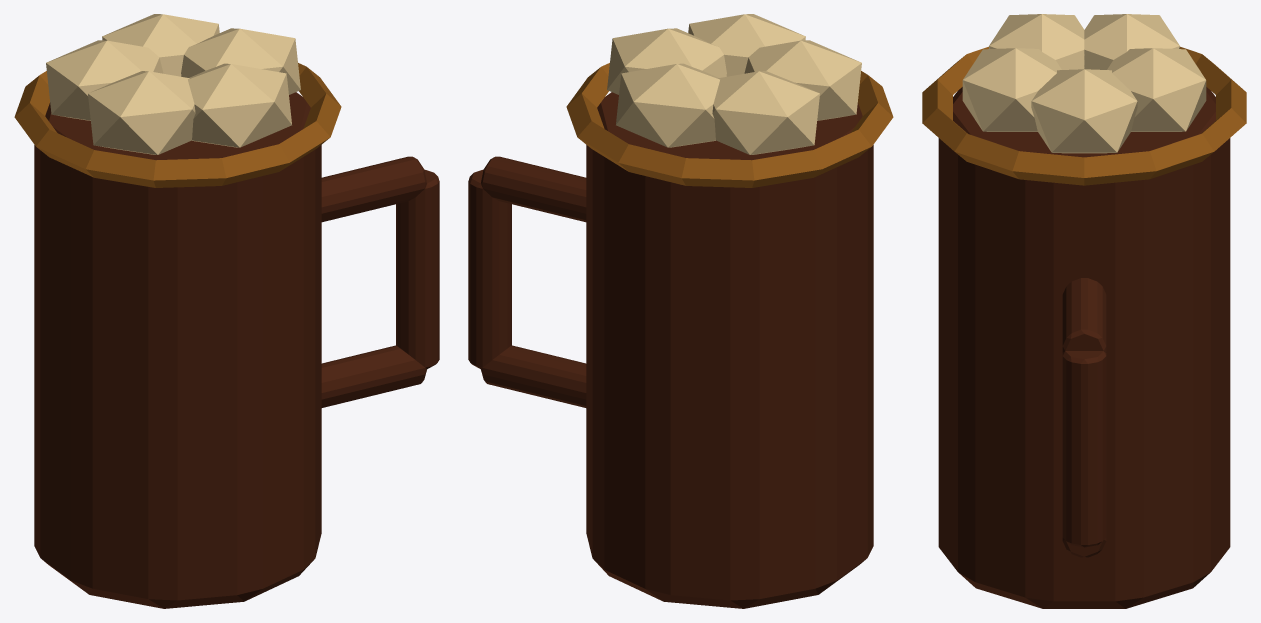
The model's file is pint_of_stout.obj.
3 views of the same model, side by side, from view 1: azimuth 30°, elevation 25°; view 2: azimuth 150°, elevation 25°; view 3: azimuth 270°, elevation 25° (orthographic).
Visible parts, largest first — view 1: Drink_MugBody.002_MAT_Wood, Drink_Rim.002_MAT_OldGold, Drink_HandleSide.002_MAT_Wood, Drink_Foam3.001_MAT_Foam, Drink_Foam4.001_MAT_Foam, Drink_Foam2.002_MAT_Foam, Drink_HandleTop.002_MAT_Wood, Drink_HandleBottom.002_MAT_Wood, Drink_Foam0.002_MAT_Foam, Drink_Foam1.002_MAT_Foam; view 2: Drink_MugBody.002_MAT_Wood, Drink_Rim.002_MAT_OldGold, Drink_HandleSide.002_MAT_Wood, Drink_Foam2.002_MAT_Foam, Drink_Foam1.002_MAT_Foam, Drink_Foam3.001_MAT_Foam, Drink_HandleTop.002_MAT_Wood, Drink_HandleBottom.002_MAT_Wood, Drink_Foam0.002_MAT_Foam, Drink_Foam4.001_MAT_Foam; view 3: Drink_MugBody.002_MAT_Wood, Drink_Rim.002_MAT_OldGold, Drink_HandleSide.002_MAT_Wood, Drink_Foam0.002_MAT_Foam, Drink_Foam1.002_MAT_Foam, Drink_Foam4.001_MAT_Foam, Drink_Foam2.002_MAT_Foam, Drink_Foam3.001_MAT_Foam, Drink_HandleTop.002_MAT_Wood.
Boxes of the visible parts, x1=… form: Drink_MugBody.002_MAT_Wood: x1=34, y1=92, x2=321, y2=608; Drink_Rim.002_MAT_OldGold: x1=14, y1=63, x2=341, y2=187; Drink_HandleSide.002_MAT_Wood: x1=396, y1=170, x2=439, y2=369; Drink_Foam3.001_MAT_Foam: x1=88, y1=71, x2=195, y2=154; Drink_Foam4.001_MAT_Foam: x1=188, y1=63, x2=291, y2=147; Drink_Foam2.002_MAT_Foam: x1=46, y1=40, x2=163, y2=120; Drink_HandleTop.002_MAT_Wood: x1=321, y1=156, x2=426, y2=222; Drink_HandleBottom.002_MAT_Wood: x1=321, y1=345, x2=426, y2=407; Drink_Foam0.002_MAT_Foam: x1=181, y1=28, x2=300, y2=94; Drink_Foam1.002_MAT_Foam: x1=102, y1=14, x2=219, y2=76; Drink_MugBody.002_MAT_Wood: x1=586, y1=92, x2=873, y2=608; Drink_Rim.002_MAT_OldGold: x1=566, y1=63, x2=893, y2=187; Drink_HandleSide.002_MAT_Wood: x1=468, y1=170, x2=511, y2=369; Drink_Foam2.002_MAT_Foam: x1=712, y1=71, x2=819, y2=154; Drink_Foam1.002_MAT_Foam: x1=616, y1=63, x2=719, y2=147; Drink_Foam3.001_MAT_Foam: x1=744, y1=40, x2=861, y2=120; Drink_HandleTop.002_MAT_Wood: x1=481, y1=156, x2=586, y2=222; Drink_HandleBottom.002_MAT_Wood: x1=481, y1=345, x2=586, y2=407; Drink_Foam0.002_MAT_Foam: x1=607, y1=28, x2=726, y2=94; Drink_Foam4.001_MAT_Foam: x1=688, y1=14, x2=805, y2=76; Drink_MugBody.002_MAT_Wood: x1=938, y1=87, x2=1230, y2=608; Drink_Rim.002_MAT_OldGold: x1=922, y1=46, x2=1246, y2=185; Drink_HandleSide.002_MAT_Wood: x1=1062, y1=351, x2=1106, y2=547; Drink_Foam0.002_MAT_Foam: x1=1031, y1=69, x2=1137, y2=153; Drink_Foam1.002_MAT_Foam: x1=1107, y1=48, x2=1206, y2=131; Drink_Foam4.001_MAT_Foam: x1=962, y1=48, x2=1061, y2=131; Drink_Foam2.002_MAT_Foam: x1=1084, y1=14, x2=1179, y2=69; Drink_Foam3.001_MAT_Foam: x1=989, y1=14, x2=1084, y2=69; Drink_HandleTop.002_MAT_Wood: x1=1062, y1=278, x2=1106, y2=352.
Bounding box in the file's own units: 1.8 × 2.19 × 1.25.
